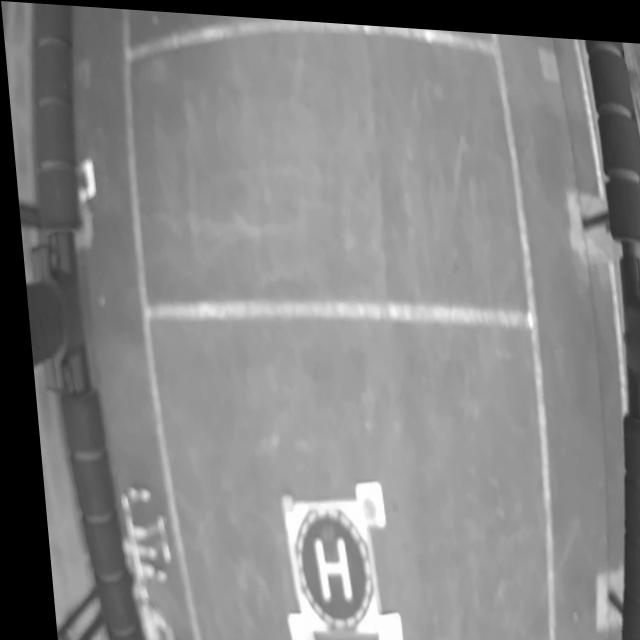Helipad: (303, 531, 341, 597)
